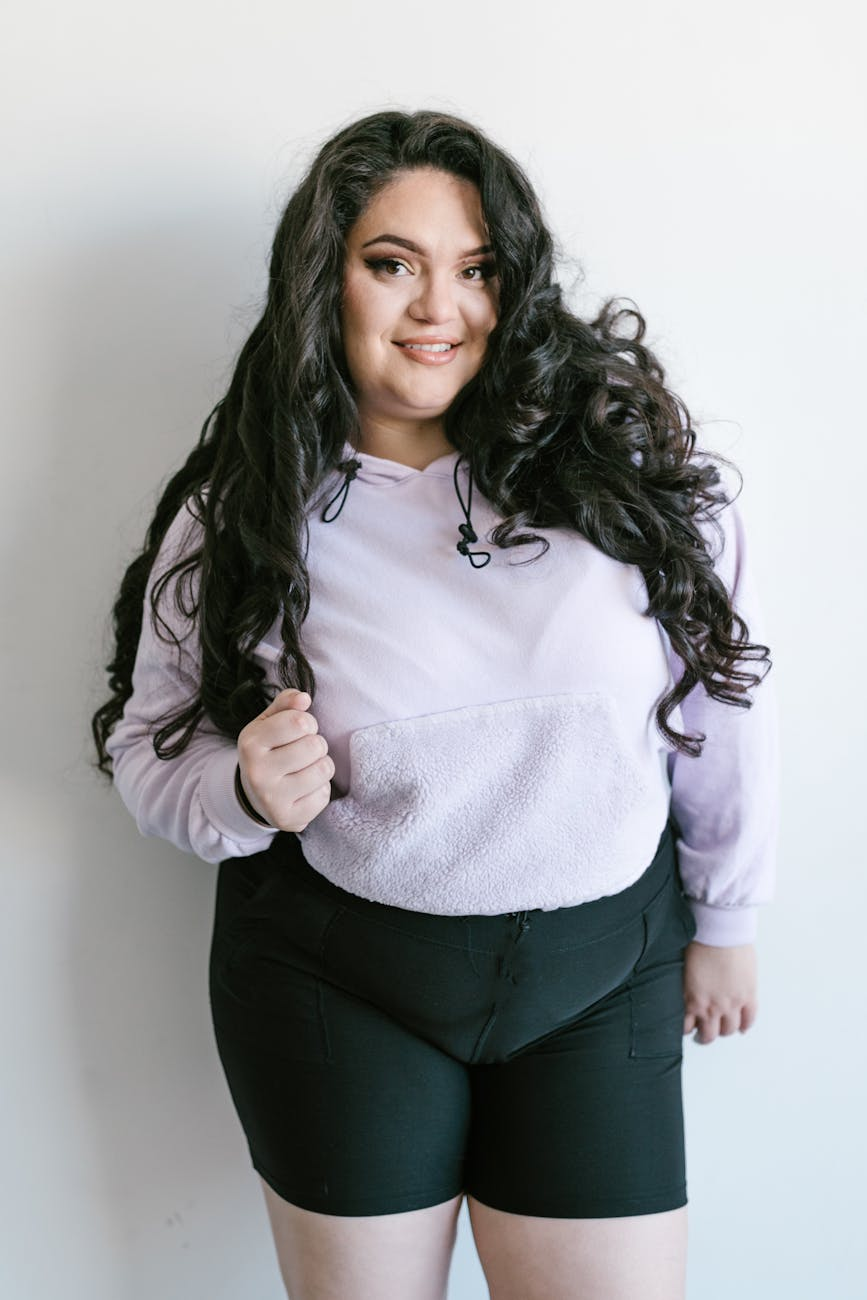shorts: (207, 843, 718, 1234)
